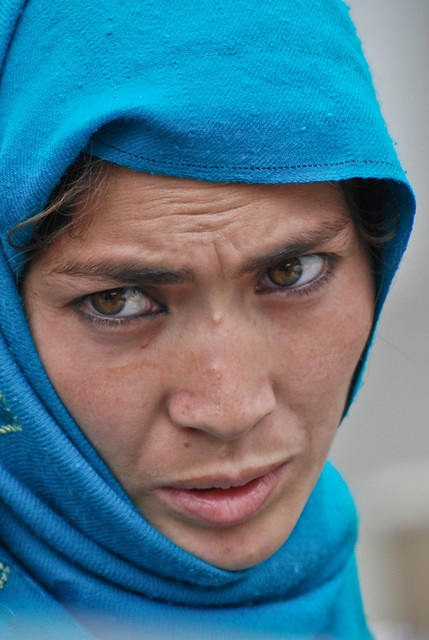without_mask: (11, 147, 419, 591)
